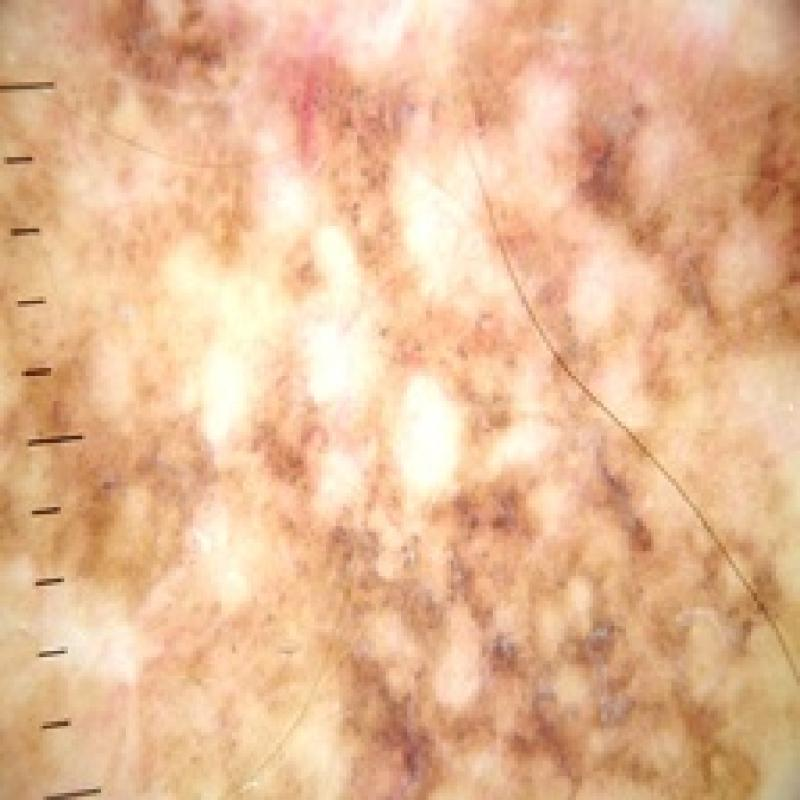malignant: (14, 3, 799, 800)
